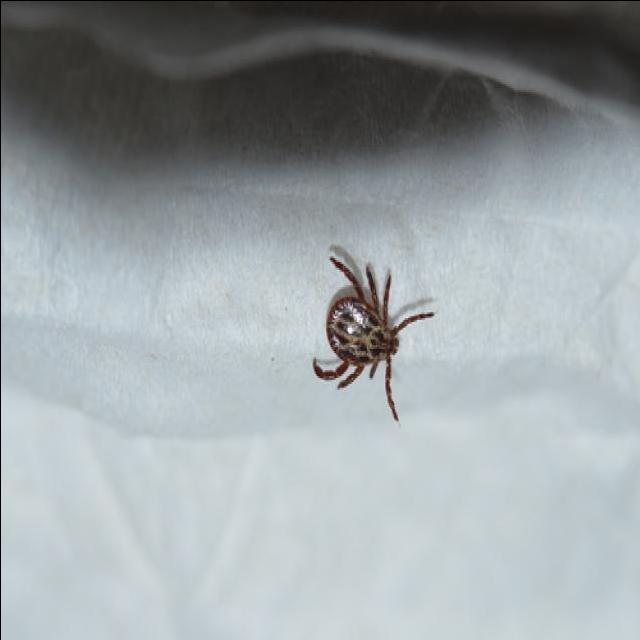Dermacentor Reticulatus-M: (314, 244, 435, 423)
